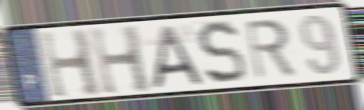9: (297, 13, 343, 78)
A: (149, 23, 206, 91)
H: (88, 24, 155, 98), (38, 27, 105, 101)
R: (242, 16, 299, 82)
S: (194, 19, 249, 87)
